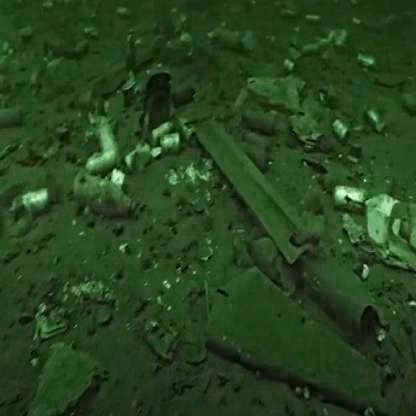can: (22, 180, 66, 238), (364, 89, 396, 152), (326, 111, 362, 166), (332, 186, 368, 219), (157, 136, 186, 157)
